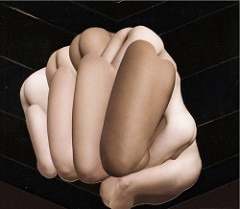fist: (30, 39, 200, 199)
